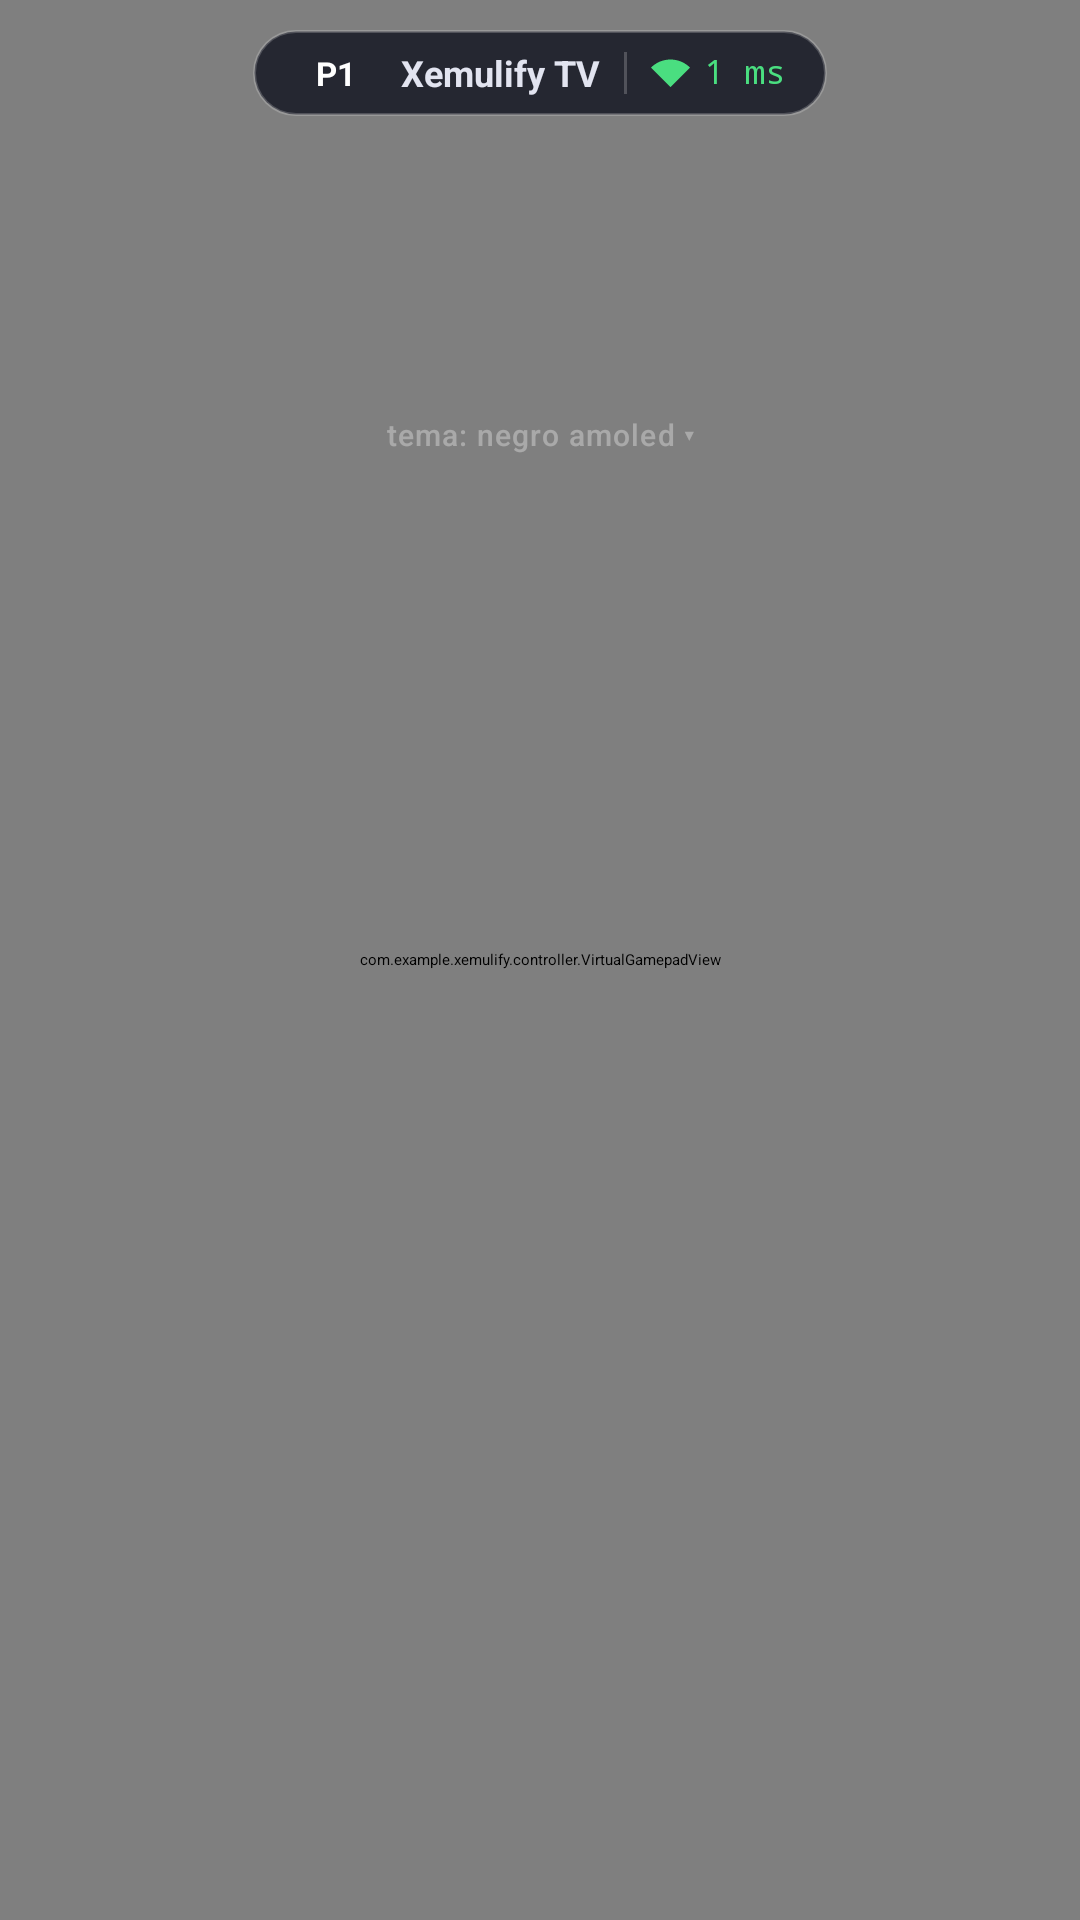

Screen size 1080 x 1920. Icon name, then its box in pixels as (x1=x1, y1=y1, x2=x2, y2=y2):
wifi signal: (x1=651, y1=59, x2=690, y2=87)
